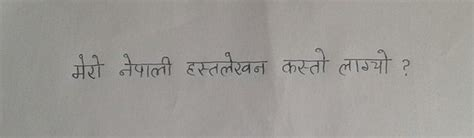text: (186, 52, 271, 80), (337, 47, 393, 75), (115, 52, 175, 78), (280, 47, 331, 75), (68, 54, 105, 79), (399, 58, 412, 76)
